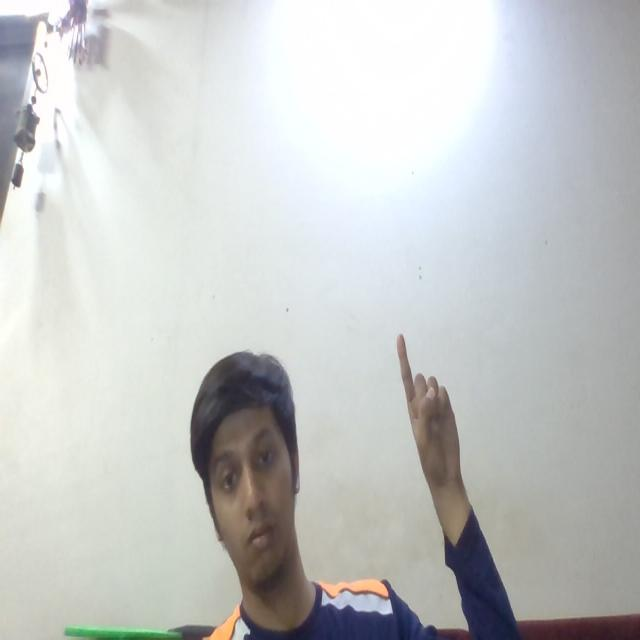Z: (378, 314, 484, 499)
